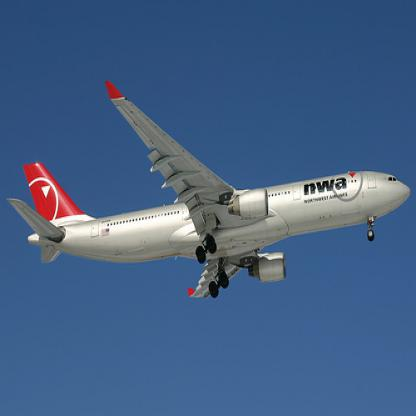aeroplane: (4, 75, 411, 297)
